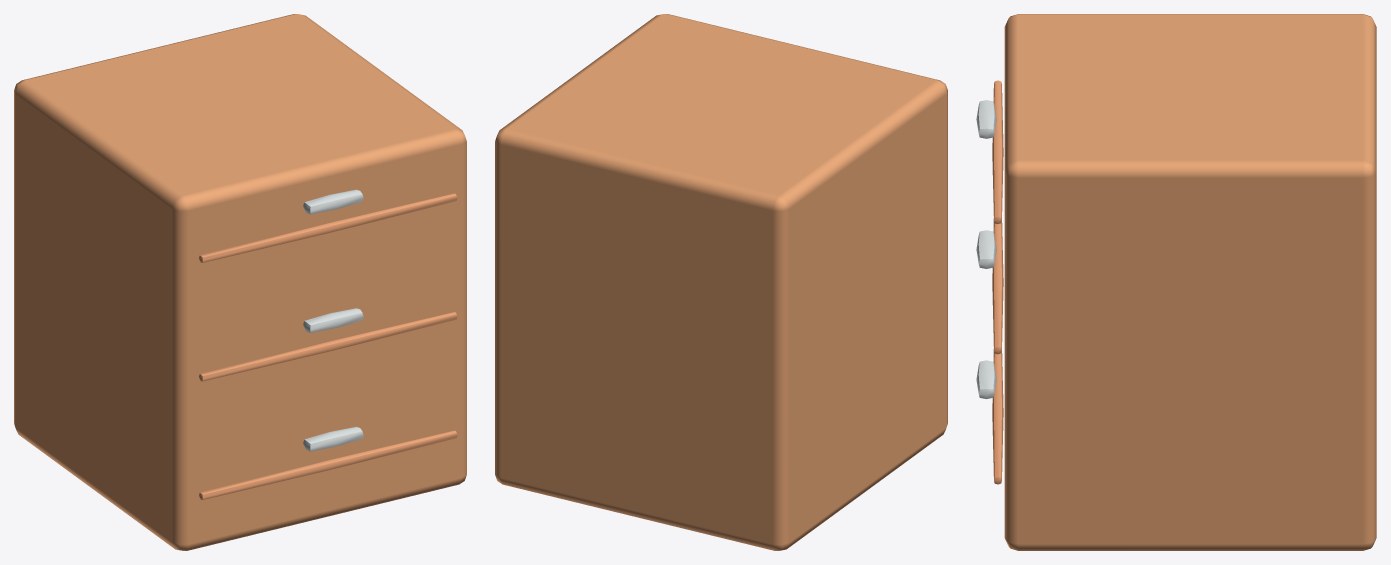
Rendered from filing-cabinet.glb.
3 renders of one model, left to right at view 1: azimuth 30°, elevation 25°; view 2: azimuth 150°, elevation 25°; view 3: azimuth 270°, elevation 25°, orthographic. The views are drawn at different scales.
Visible parts, largest first — view 1: part (×7); view 2: part; view 3: part (×7).
Part boxes in pixels (bbox=[...]): part (×7): bbox=[14, 14, 466, 550]; part: bbox=[495, 14, 947, 550]; part (×7): bbox=[976, 14, 1376, 550].
Bounding box in the file's own units: 0.82 × 0.95 × 0.8825.
Materials: 1 (1 with a texture image).
